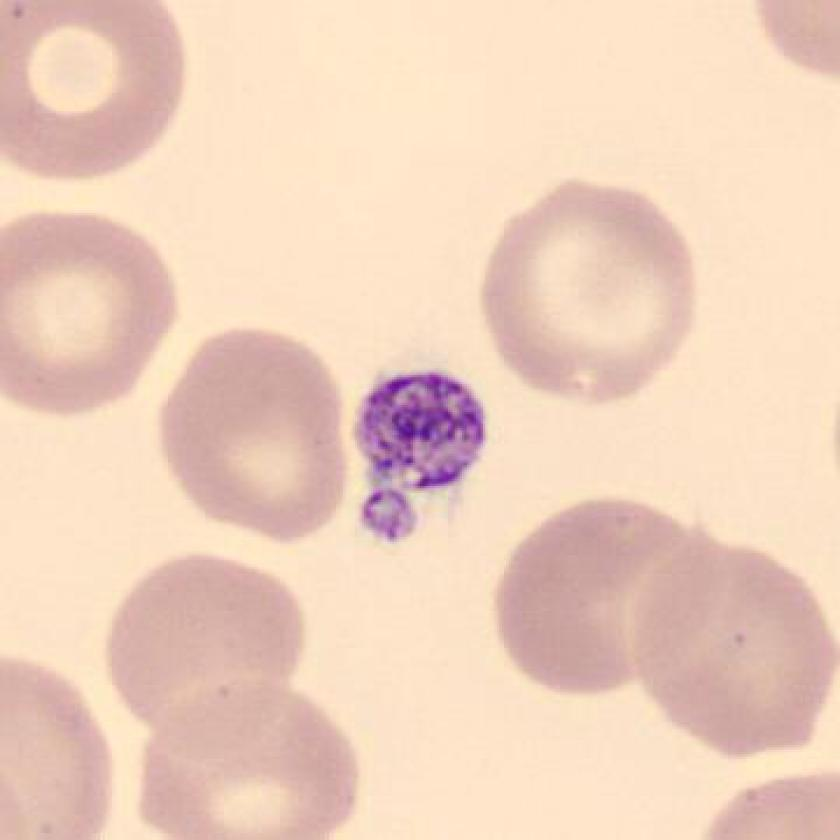platelets: (349, 367, 496, 499), (358, 487, 428, 549)
